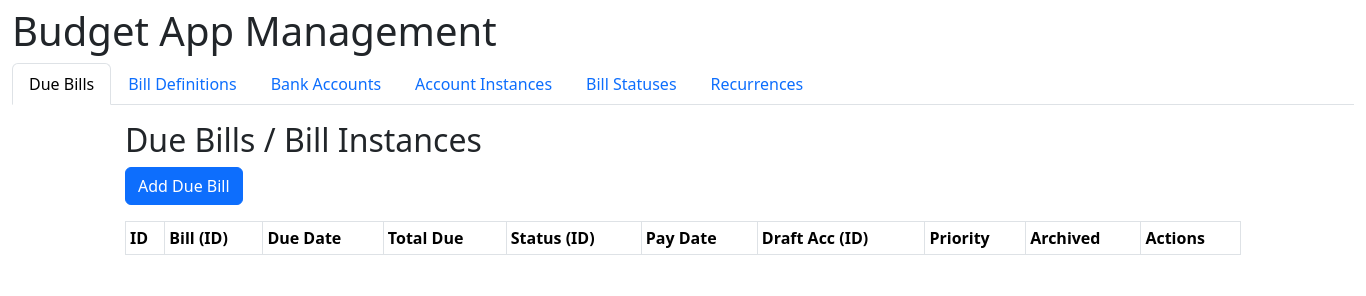
Test: App Component Tabs Functionality › should switch to "Account Instances" tab and render its content when clicked
The width and height of the screenshot is (1366, 296).
What coordinates should you click on to do the following:
click the tab "Account Instances"
I would click on:
 (484, 84)
Its box is [398, 63, 569, 105].
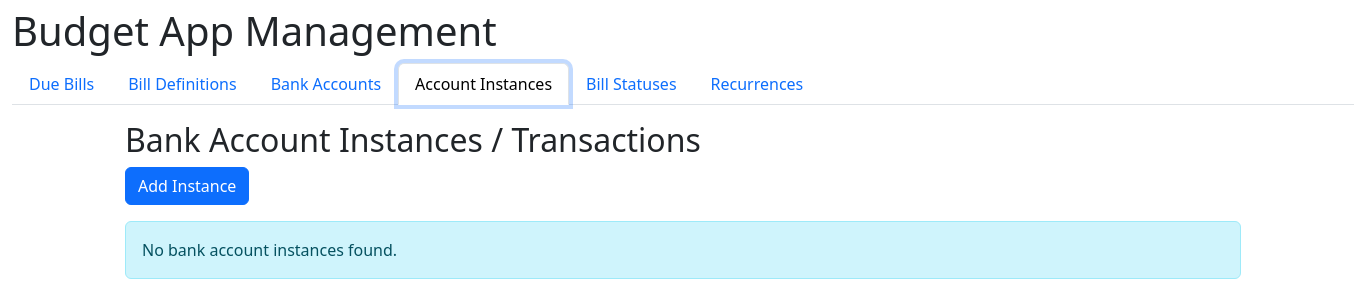
Now the heading "Bank Account Instances / Transactions" is shown, box [125, 118, 701, 161]
Now the heading with test id "due-bills-heading" is gone
